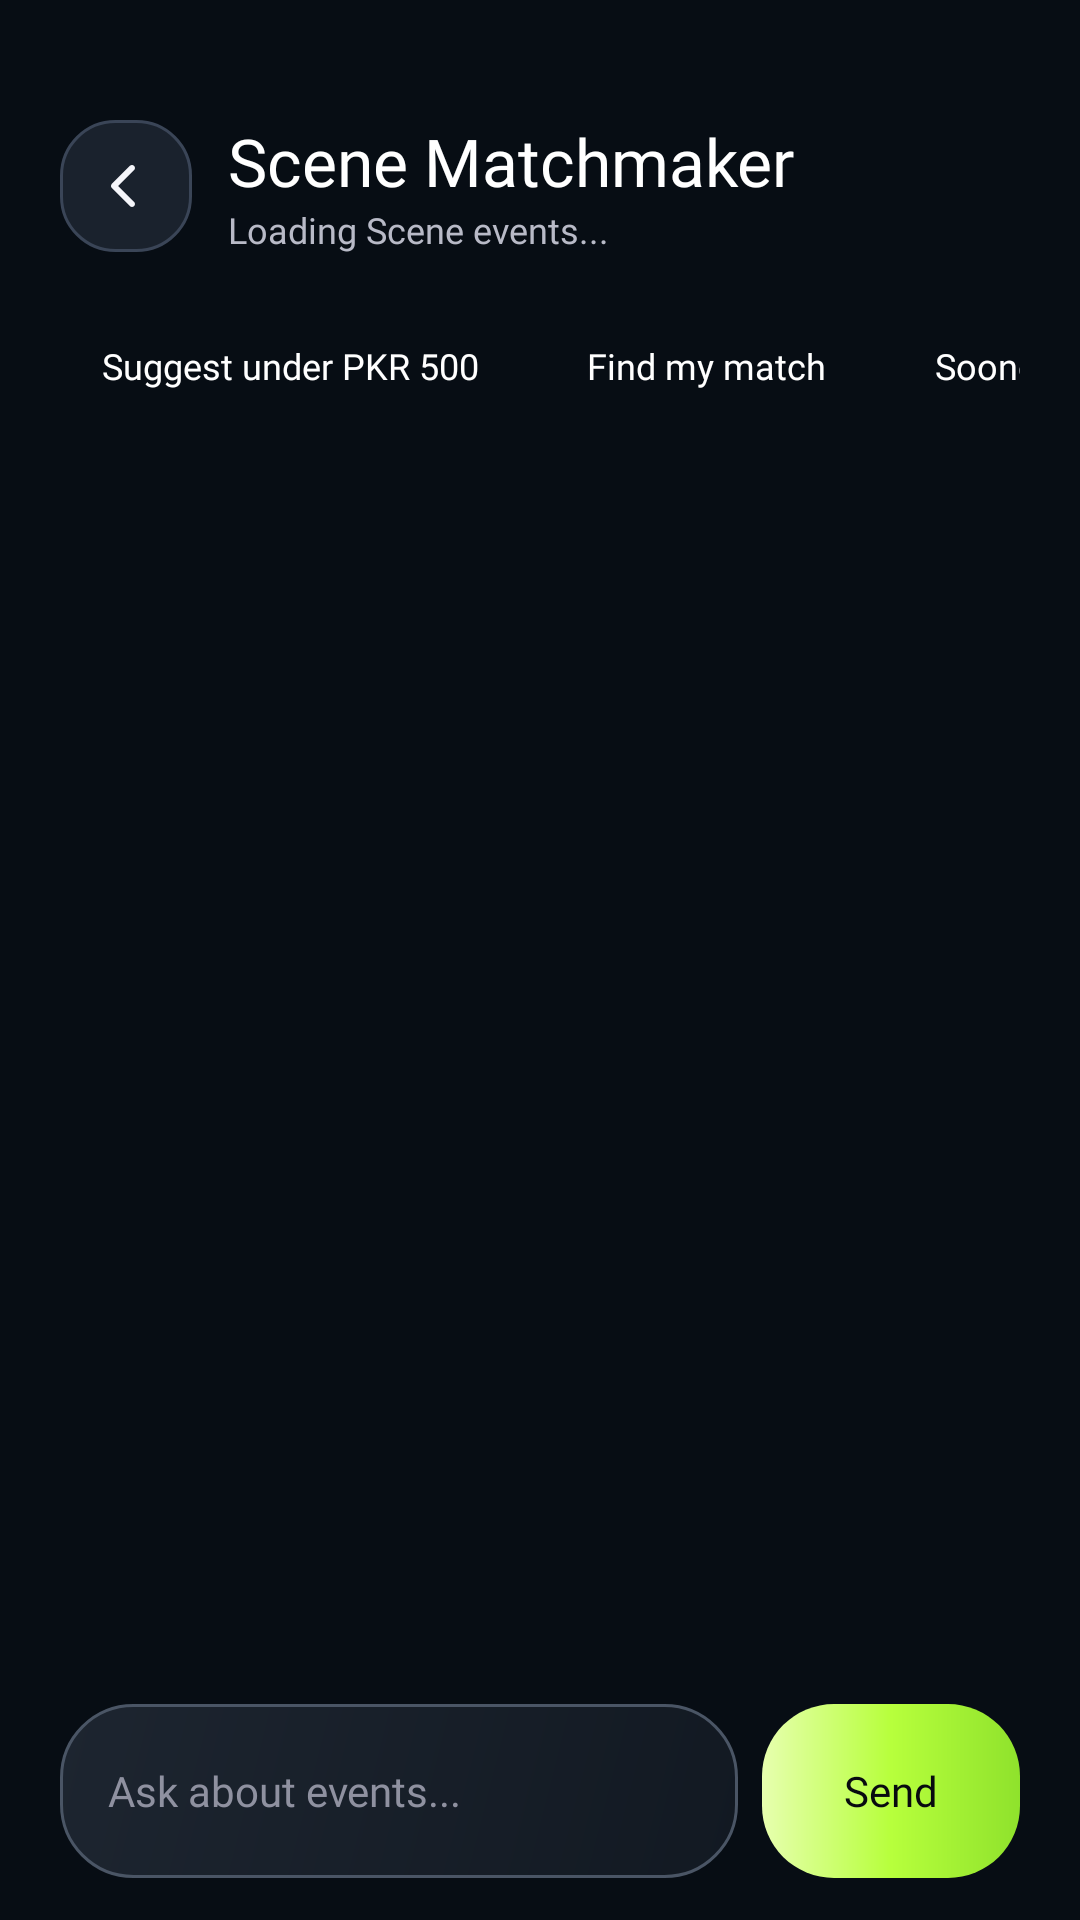

Screen size 1080*1920. Icon name, then its center in pixels as point (x, y):
Back: point (126, 186)
